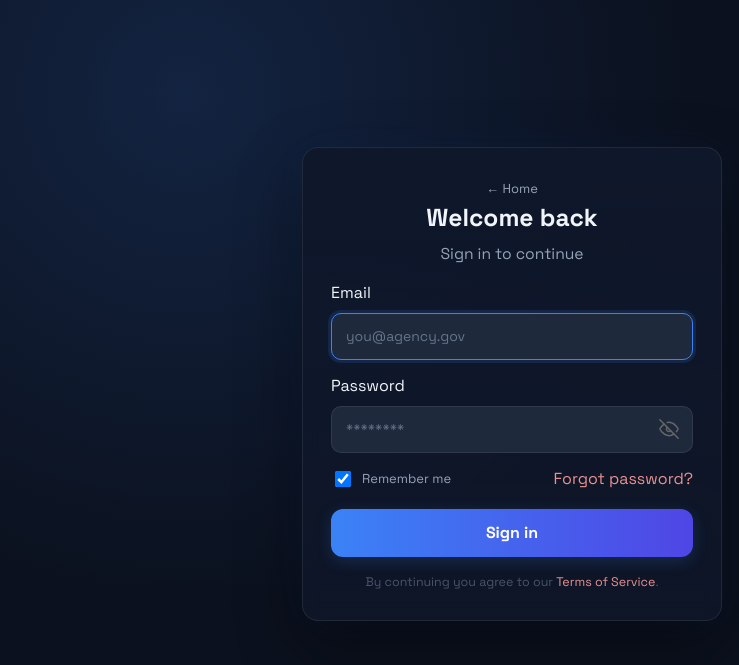
Scenario: Login page — form validation › shows error message for wrong credentials
The width and height of the screenshot is (739, 665).
Type "wrong@evaide.com" into the field with id "email" at (512, 337), box [331,313,693,360]
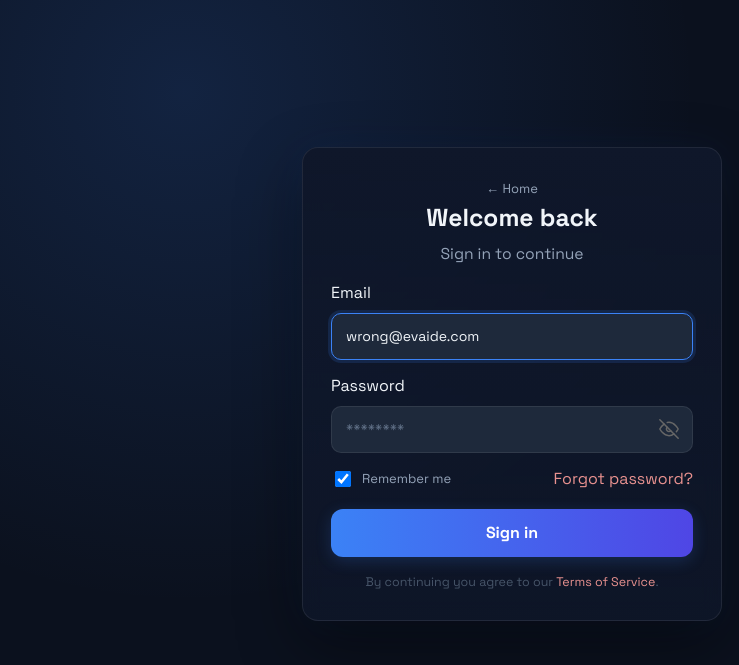
Type "wrongpassword123" into the password field labelled "Password" at (512, 430), box [331,406,693,453]
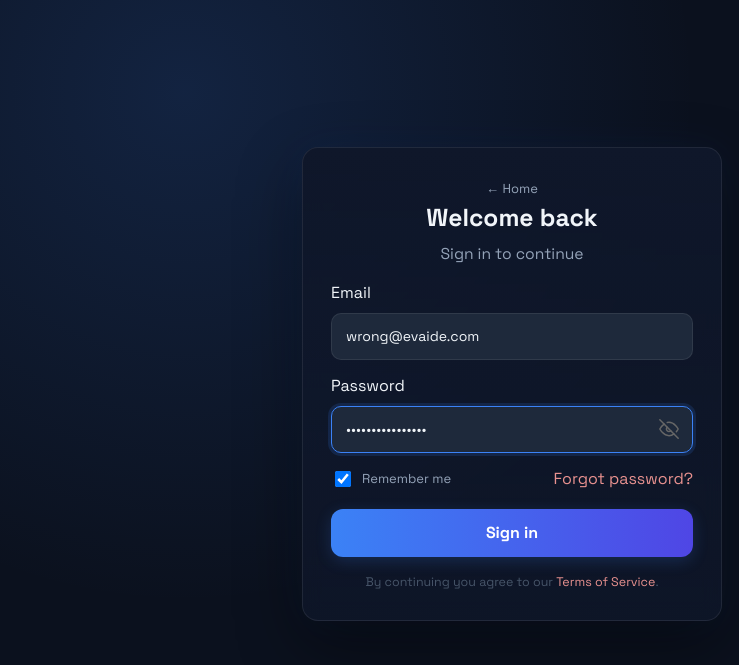
Click the submit button at (512, 533), box [331,509,693,557]
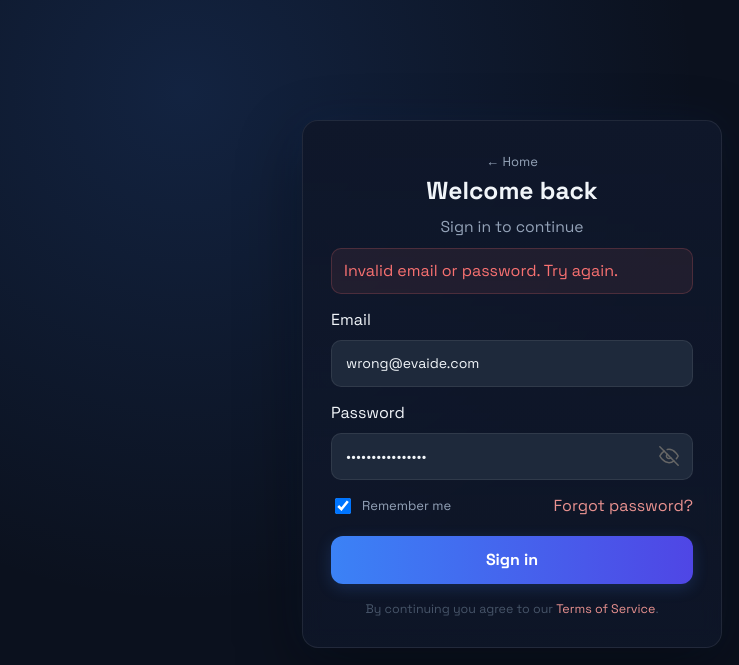
Expected: the text "Invalid email or password" is shown, [344,260,618,281]
